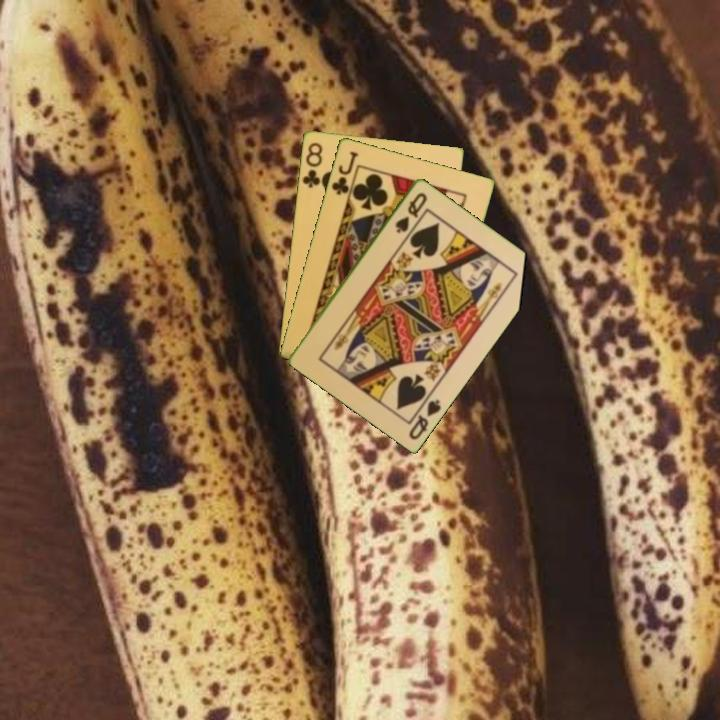8c: (299, 138, 325, 190)
Jc: (328, 147, 361, 198)
Qs: (405, 390, 444, 442), (391, 188, 430, 236)
